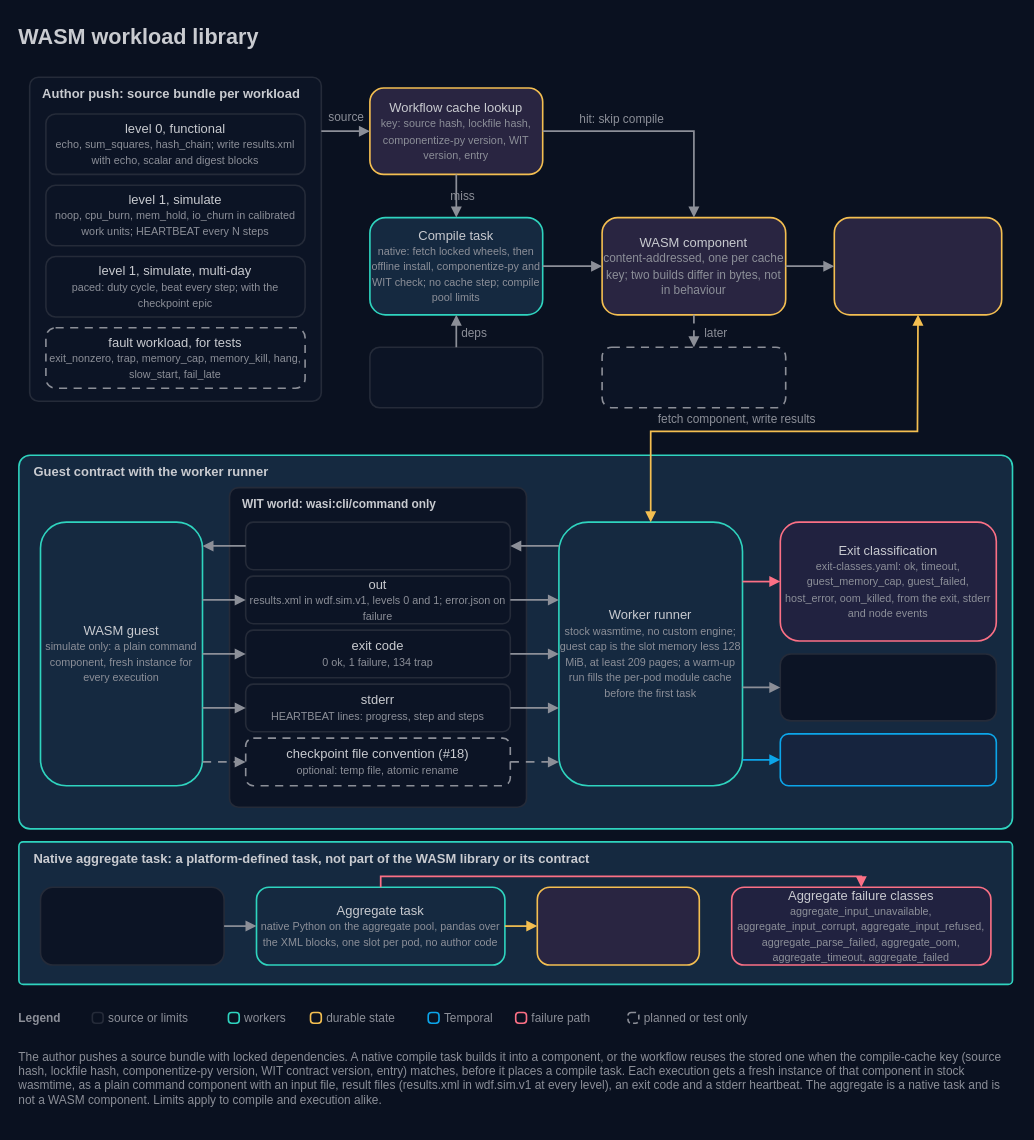
The diagram is 1034 pixels wide and 1140 high, and some of its shapes have lost their labels. Each missing label, with the centre of its shape:
Execution limits memory cap, CPU limit, timeout, pod limits: the point at 888,687
in /in/input.json: the point at 377,545
Input XML result blocks from wdf-results, listed by the aggregate index: the point at 131,925
Native .cwasm precompile, later optimisation: the point at 693,377
Package mirror optional, compile pool only: the point at 456,377
S3-compatible buckets sources, components, results, checkpoints: the point at 917,265
Summary summary.json, written to wdf-results: the point at 618,925
Temporal activity: heartbeat, result: the point at 888,759
